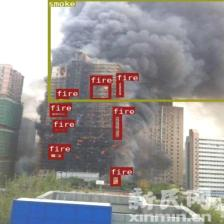fire: (90, 83, 110, 100), (113, 114, 122, 139), (48, 151, 63, 159), (110, 174, 120, 186), (116, 80, 123, 97), (49, 111, 66, 116), (52, 127, 67, 132), (56, 96, 68, 101)
smoke: (47, 0, 224, 101)
